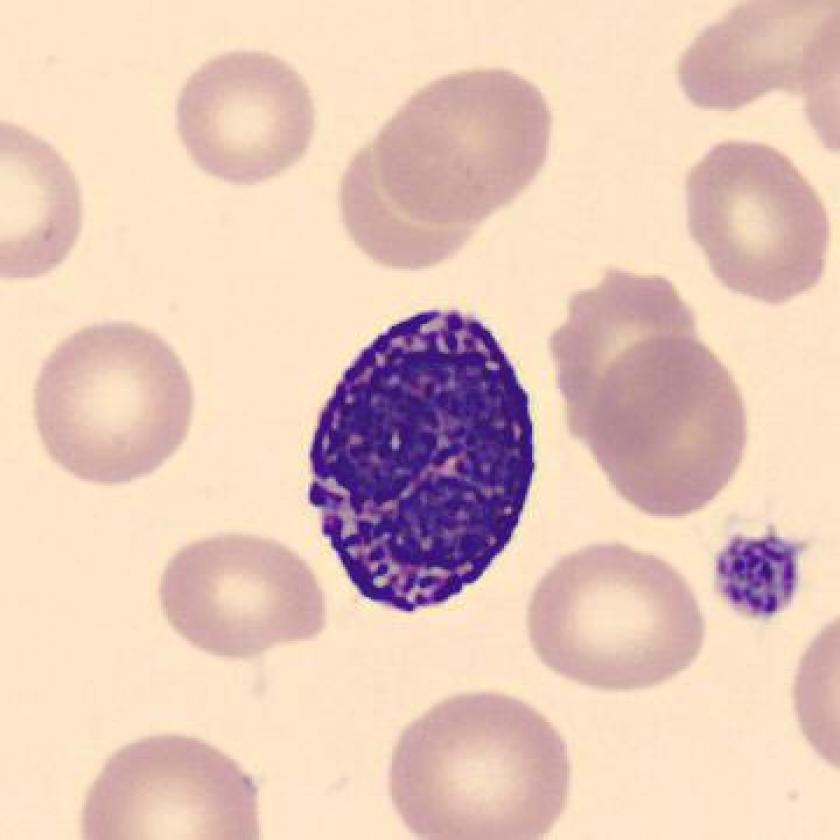basophil: (307, 311, 545, 619)
